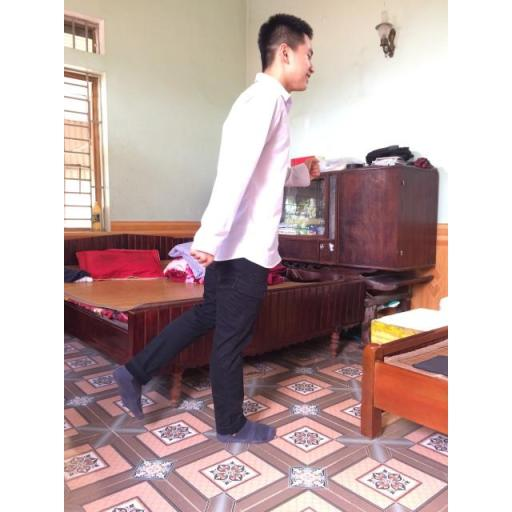Running: (106, 8, 316, 449)
